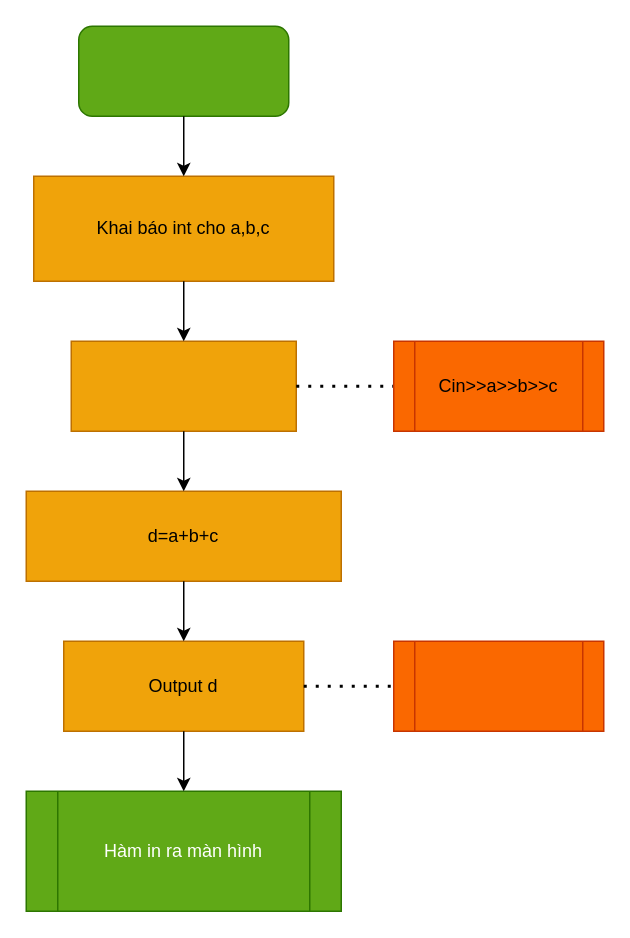
Some shapes in this 630 by 938 pixel diagram are drawn without their labels. Here are the shapes that lost their labels. From the top down, the centre of each, then its label:
At point (183, 70): "start".
At point (183, 385): "Input a,b,c".
At point (498, 685): "cout<<d".
